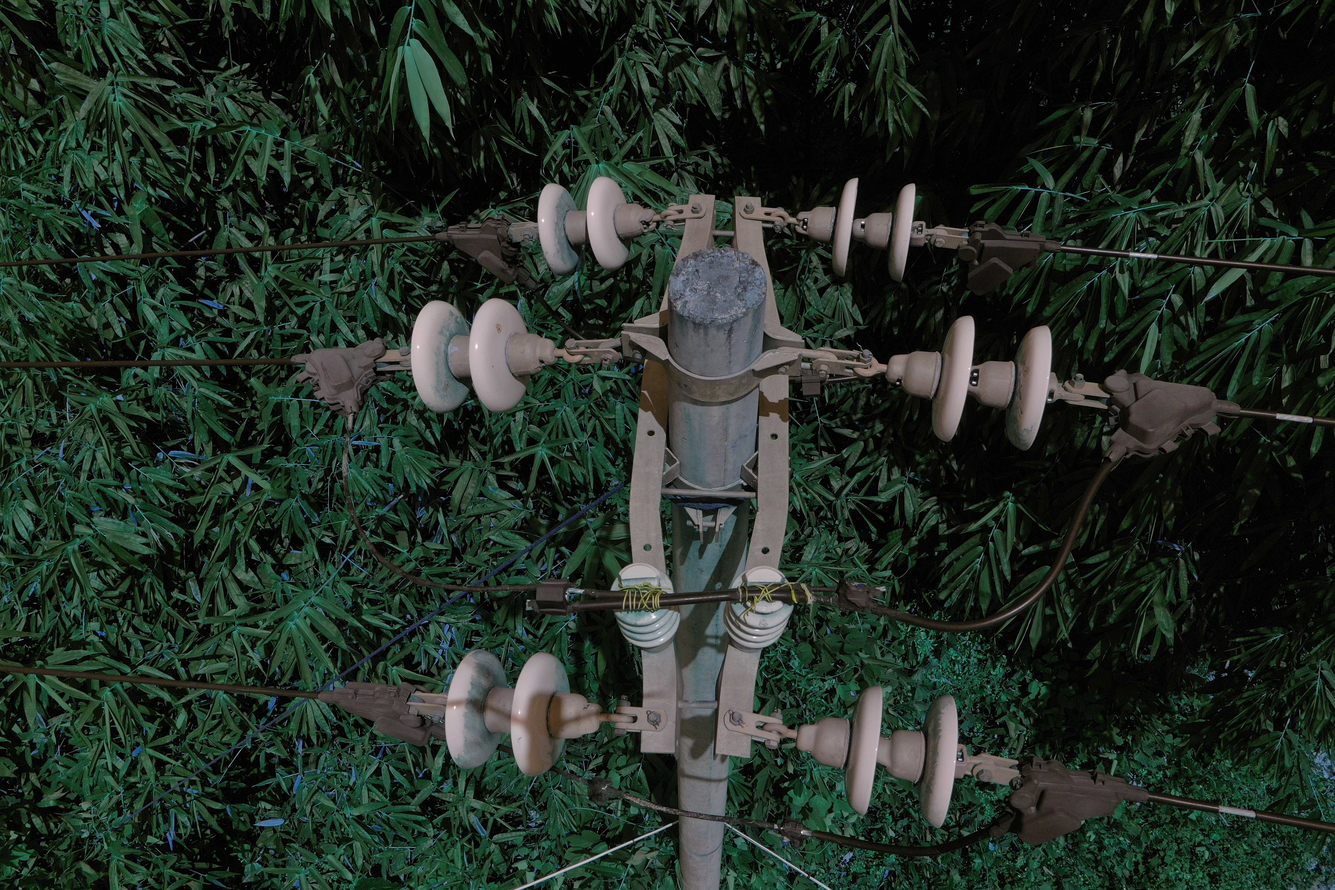severe_soiling_no_discharge_whole: (791, 676, 970, 832), (886, 303, 1060, 457), (442, 639, 604, 776), (409, 281, 561, 415), (535, 168, 659, 278), (717, 568, 798, 655), (607, 562, 685, 651)
